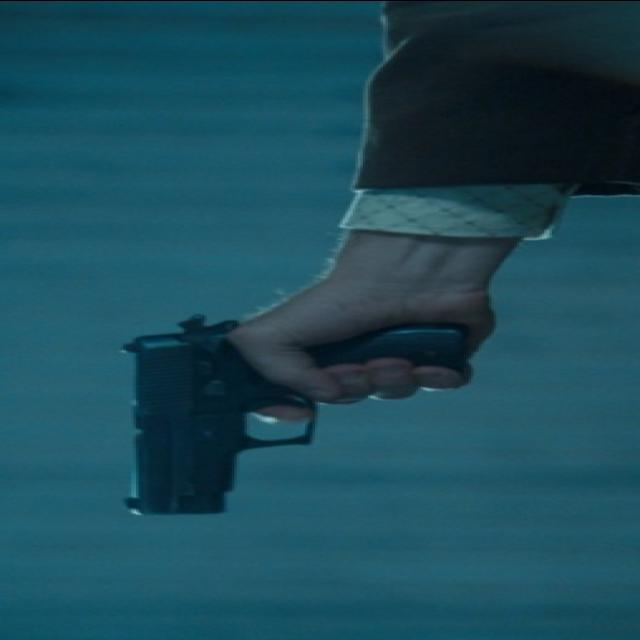weapons: (71, 306, 488, 530)
